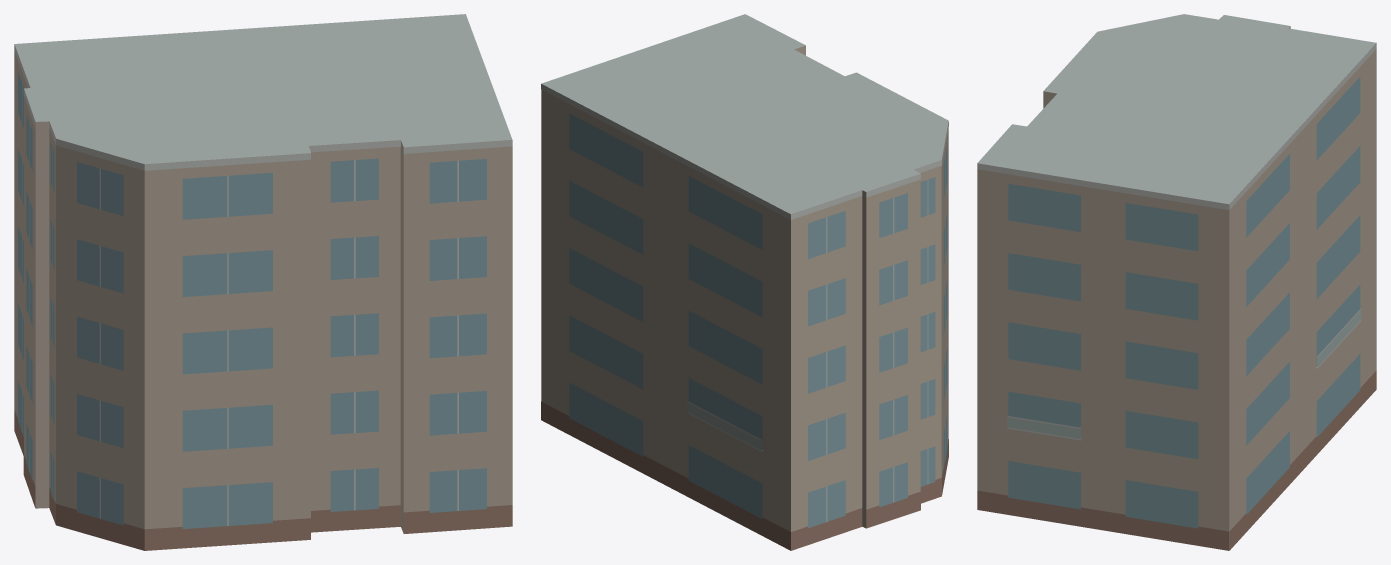
Rendered from survey-upis-32875198.glb.
3 views of the same model, side by side, from view 1: azimuth 30°, elevation 25°; view 2: azimuth 150°, elevation 25°; view 3: azimuth 270°, elevation 25° (orthographic). The views are drawn at different scales.
Parts seen in each view (by area): view 1: survey-upis-32875198.tmp; view 2: survey-upis-32875198.tmp; view 3: survey-upis-32875198.tmp.
Boxes of the visible parts, x1,y1,x2,y2 form: survey-upis-32875198.tmp: [14, 14, 512, 550]; survey-upis-32875198.tmp: [541, 14, 948, 550]; survey-upis-32875198.tmp: [977, 14, 1376, 550].
Bounding box in the file's own units: 16.97 × 14.4 × 15.05.
